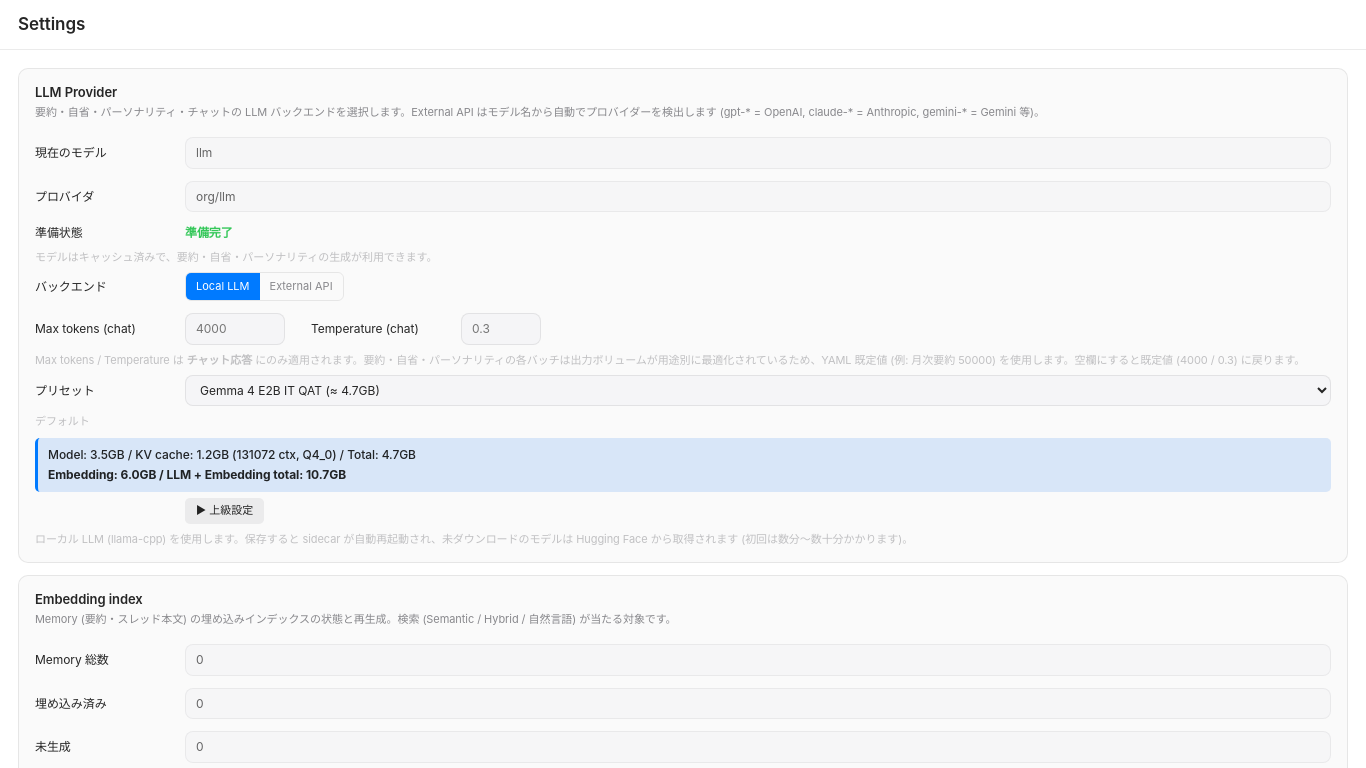
Test: Settings view switching › re-syncs the LLM preset dropdown after a save and stays clean
Note: Switch to the second preset → dirty → basic save bar appears.
Select "Qwen3.5 9B (≈ 16.1GB)" in the dropdown: (758, 390) x1=185 y1=375 x2=1331 y2=406
(page scrolled)
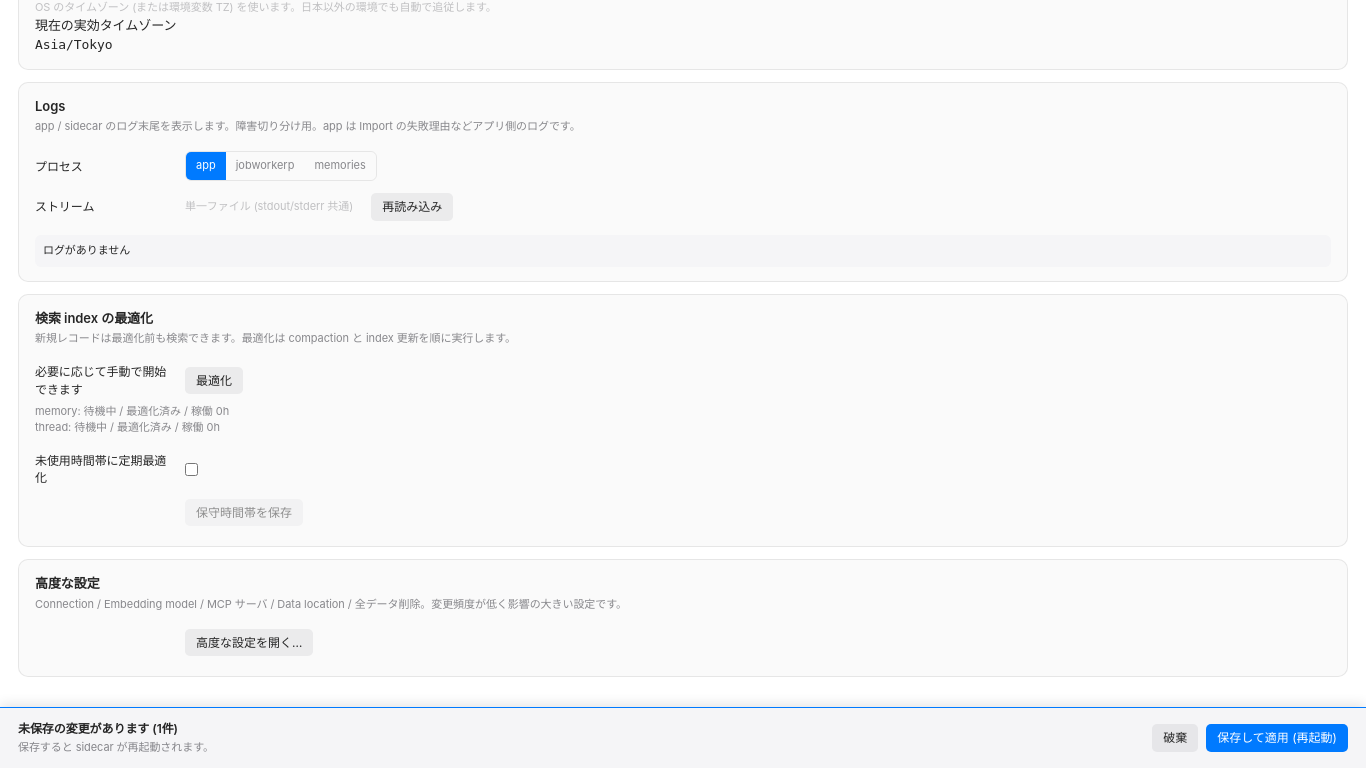
Expected: the text "未保存の変更があります (1件)" is shown, x1=18 y1=721 x2=178 y2=736
Click the button "保存して適用 (再起動)": click(1277, 738) x1=1206 y1=724 x2=1348 y2=752
(page scrolled)
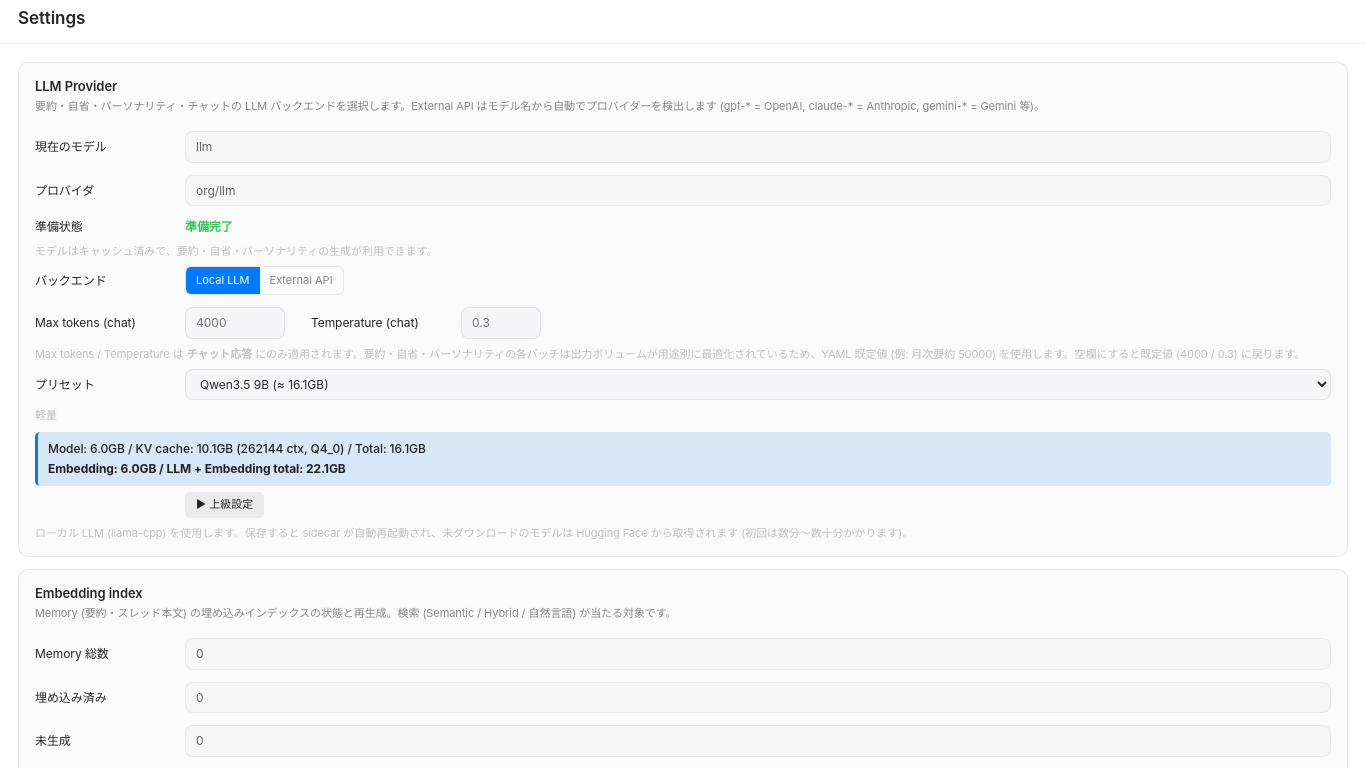
Expected: the text "未保存の変更があります" is gone
